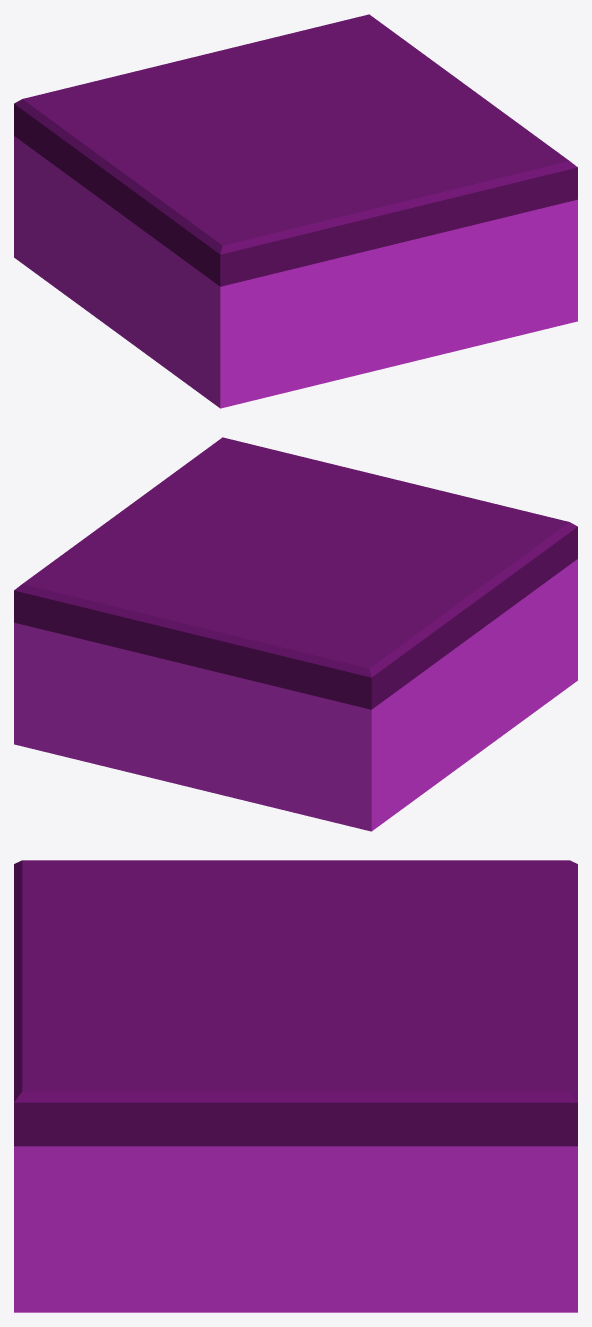
The model's file is car_tile.fbx.
The picture shows the model from 3 angles, top to bottom: view 1: azimuth 30°, elevation 25°; view 2: azimuth 150°, elevation 25°; view 3: azimuth 270°, elevation 25°; orthographic projection. The views are drawn at different scales.
Parts seen in each view (by area): view 1: Plane_020; view 2: Plane_020; view 3: Plane_020.
Part boxes in pixels (<box>): Plane_020: <box>14,14,577,408</box>; Plane_020: <box>14,437,577,831</box>; Plane_020: <box>14,860,577,1312</box>.
Size of the model in its own units: 2 by 0.8523 by 2.
